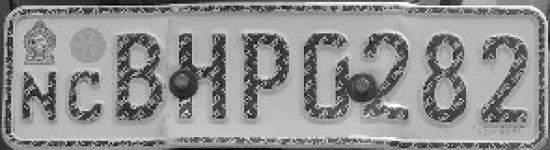0: (296, 26, 357, 121)
2: (477, 30, 535, 133), (362, 26, 417, 129)
8: (422, 25, 476, 128)
B: (115, 27, 169, 128)
C: (66, 65, 112, 126)
H: (176, 31, 232, 126)
N: (19, 66, 61, 126)
P: (237, 28, 291, 128)
